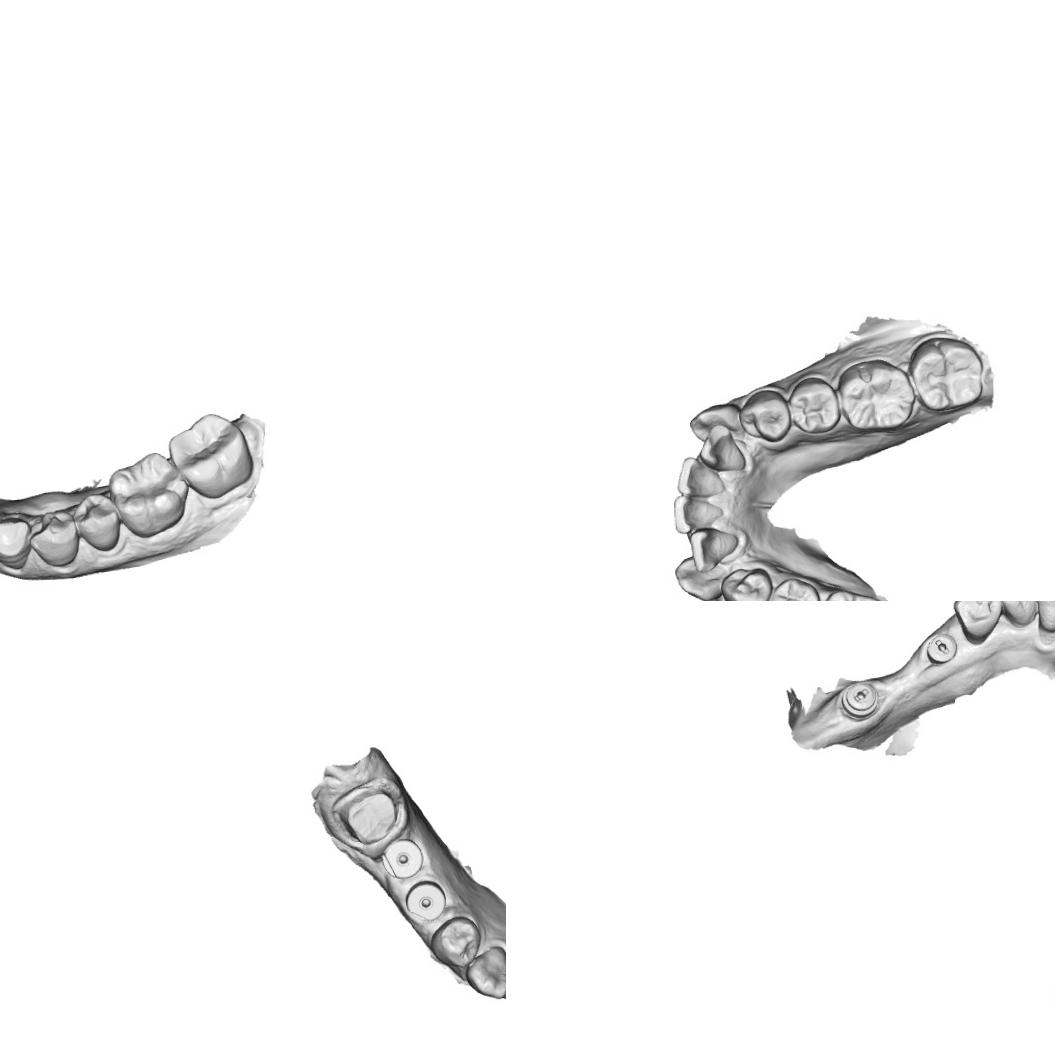canine: (672, 554, 731, 601), (686, 400, 746, 443), (463, 943, 506, 1002), (0, 514, 33, 571), (995, 601, 1044, 630)
crown: (330, 774, 408, 852)
implant: (380, 834, 426, 882), (402, 878, 448, 924)
implant_minus: (837, 680, 881, 722), (922, 630, 959, 668)
incisor: (696, 422, 747, 474), (687, 524, 740, 574), (674, 454, 728, 500), (670, 492, 725, 536), (1032, 601, 1055, 636)
molar: (166, 410, 256, 503), (106, 449, 192, 540), (908, 334, 987, 415), (836, 355, 916, 434)
premolar: (786, 374, 842, 436), (71, 490, 124, 554), (27, 507, 80, 568), (736, 388, 792, 445), (427, 914, 484, 970), (951, 601, 1005, 646), (718, 566, 774, 601), (765, 575, 823, 601)
